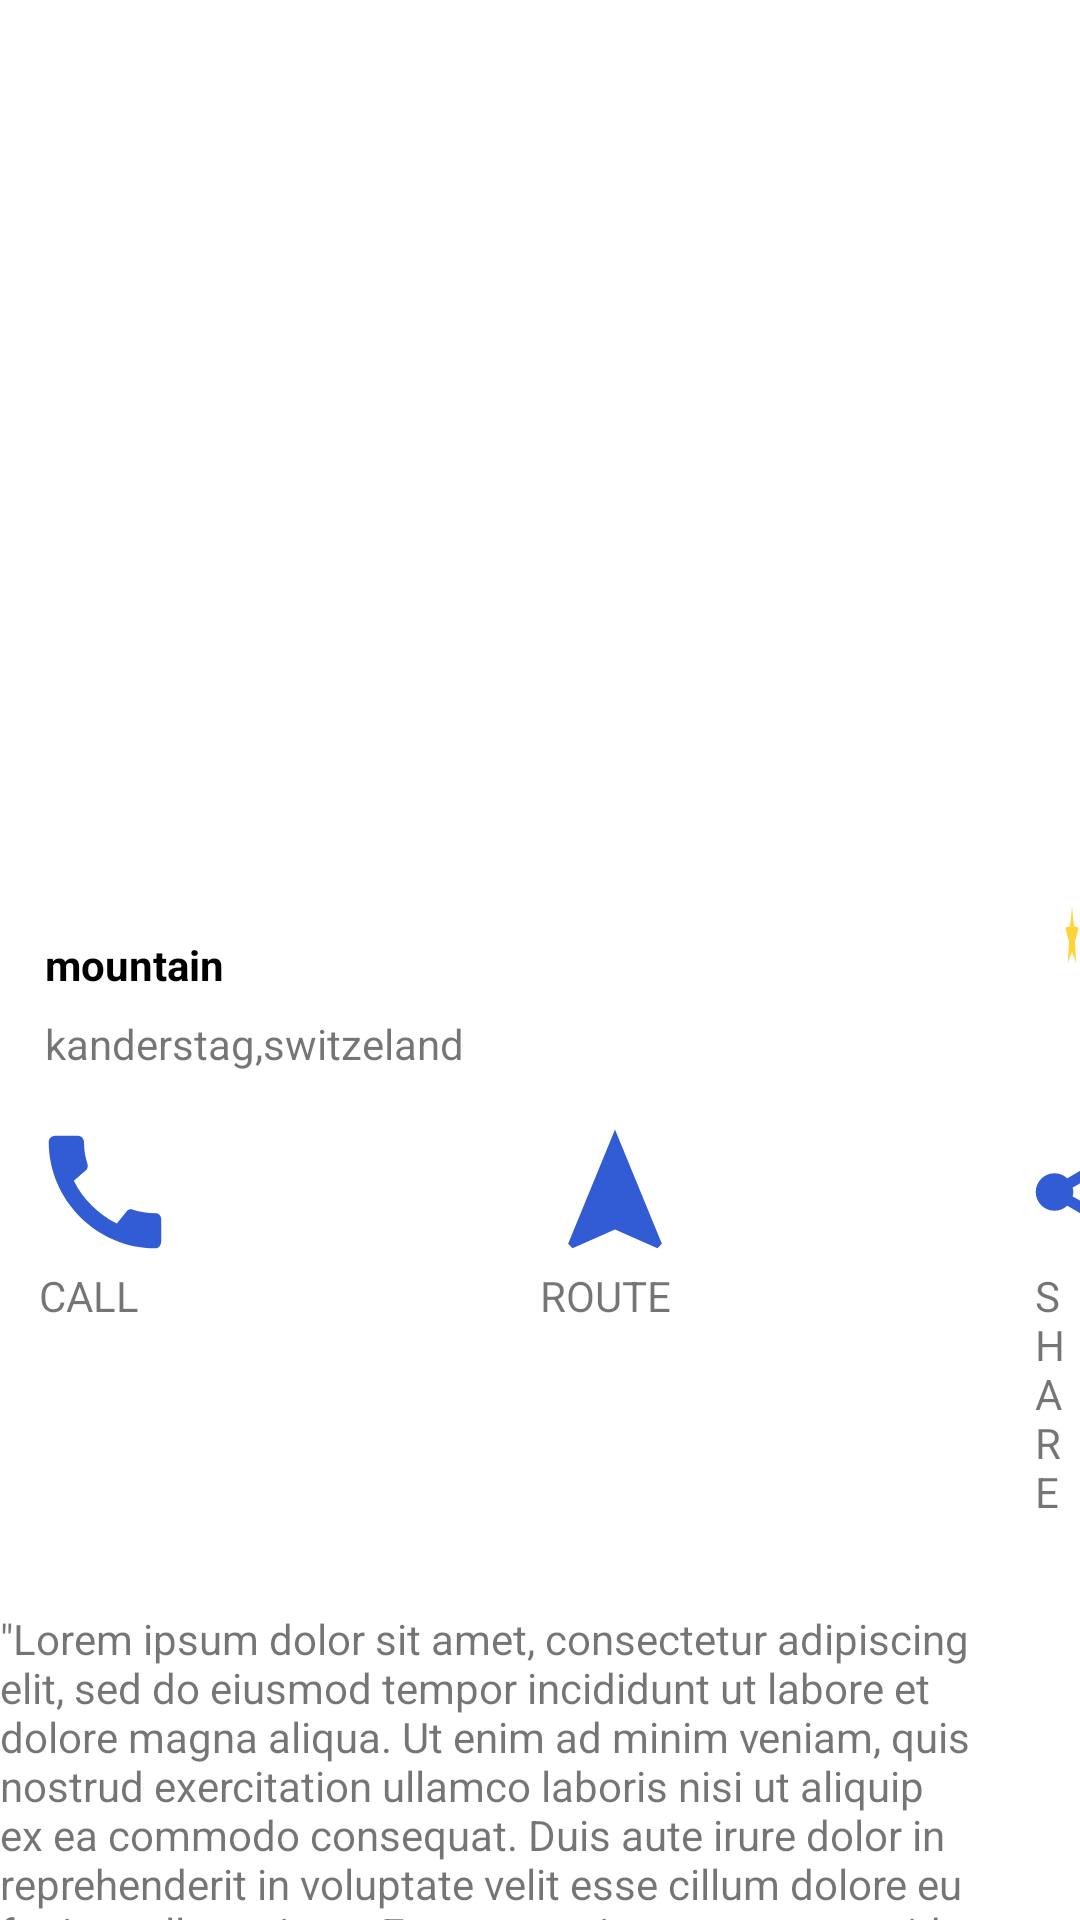

Locate icon controls on the screen. Image size 1080x1920, boxes as [left=x1, top=y1, right=x2, bottom=y2].
navigation: [left=568, top=1130, right=662, bottom=1248]
